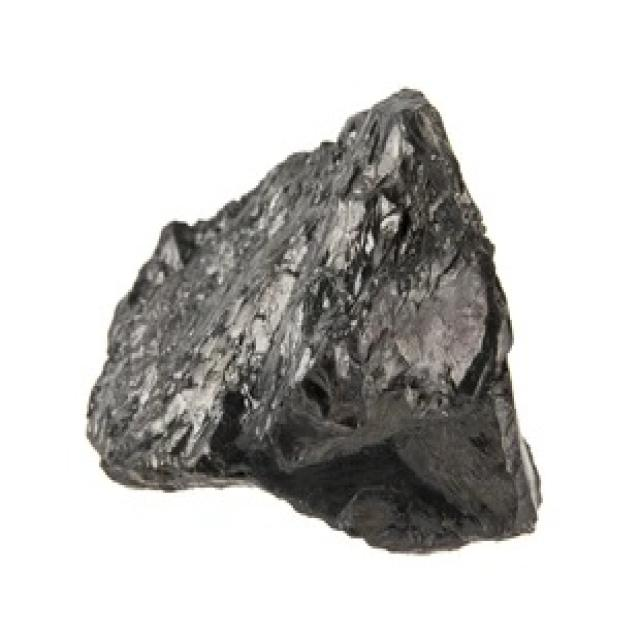Sedimentary: (89, 81, 559, 564)
